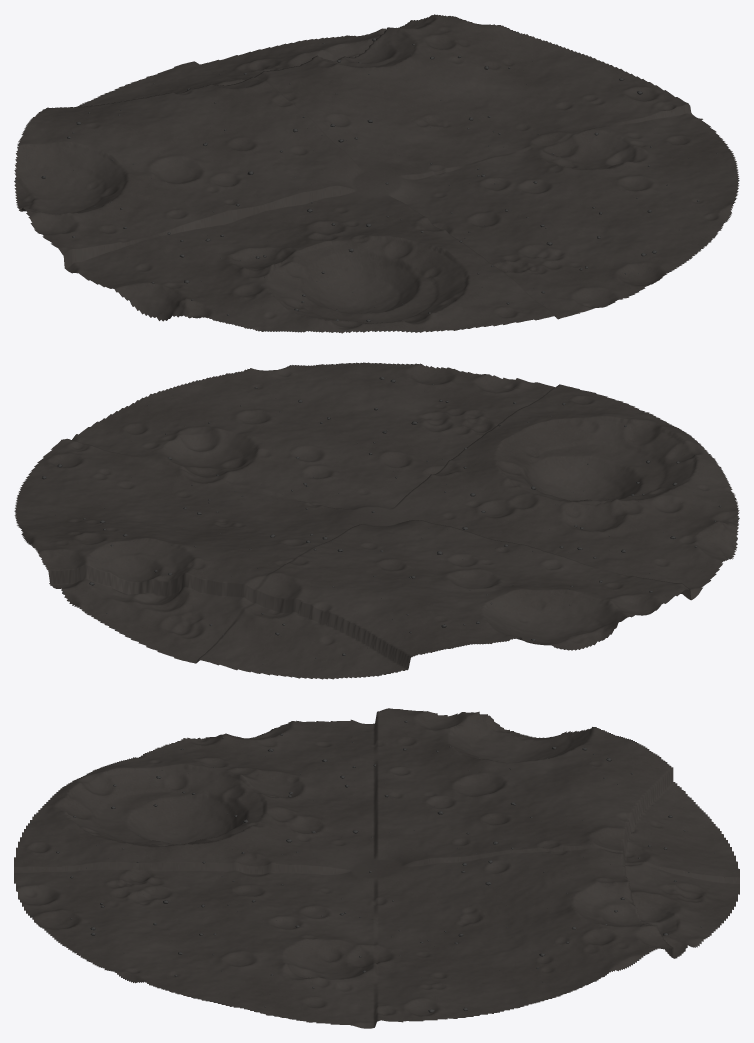
The model's file is lunar_terrain.glb.
3 renders of one model, top to bottom at view 1: azimuth 30°, elevation 25°; view 2: azimuth 150°, elevation 25°; view 3: azimuth 270°, elevation 25°, orthographic.
Visible parts, largest first — view 1: lunar_terrain, boulders; view 2: lunar_terrain, boulders; view 3: lunar_terrain, boulders.
Part boxes in pixels (x1,y1,x2,y2): lunar_terrain: [14, 14, 739, 333]; boulders: [41, 36, 717, 321]; lunar_terrain: [14, 362, 739, 679]; boulders: [41, 376, 721, 664]; lunar_terrain: [14, 708, 739, 1028]; boulders: [56, 720, 724, 1012].
Size of the model in its own units: 1000 by 75.08 by 1000.
2 materials, 1 textured.
